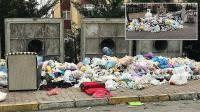Garbage: (46, 59, 199, 85), (48, 63, 85, 77), (169, 65, 186, 86), (123, 62, 149, 74), (0, 62, 6, 105), (101, 61, 116, 78), (78, 62, 93, 74), (48, 89, 58, 96), (0, 75, 5, 86), (159, 63, 167, 69), (112, 58, 121, 61)
